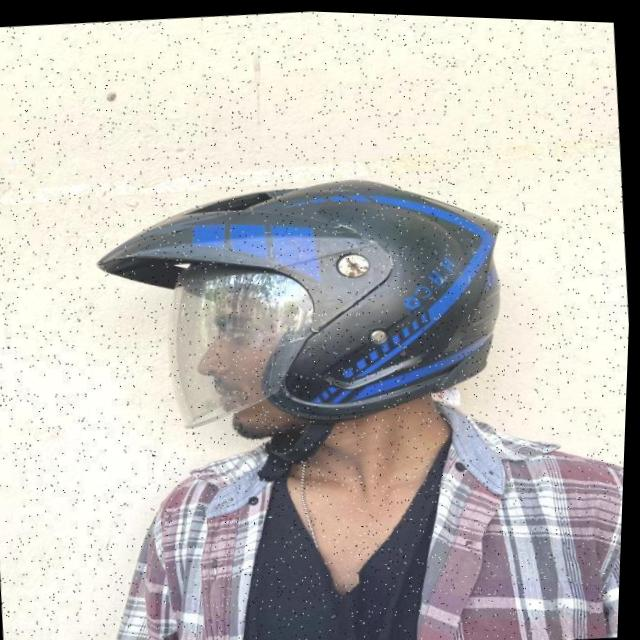helmet: (85, 154, 528, 504)
